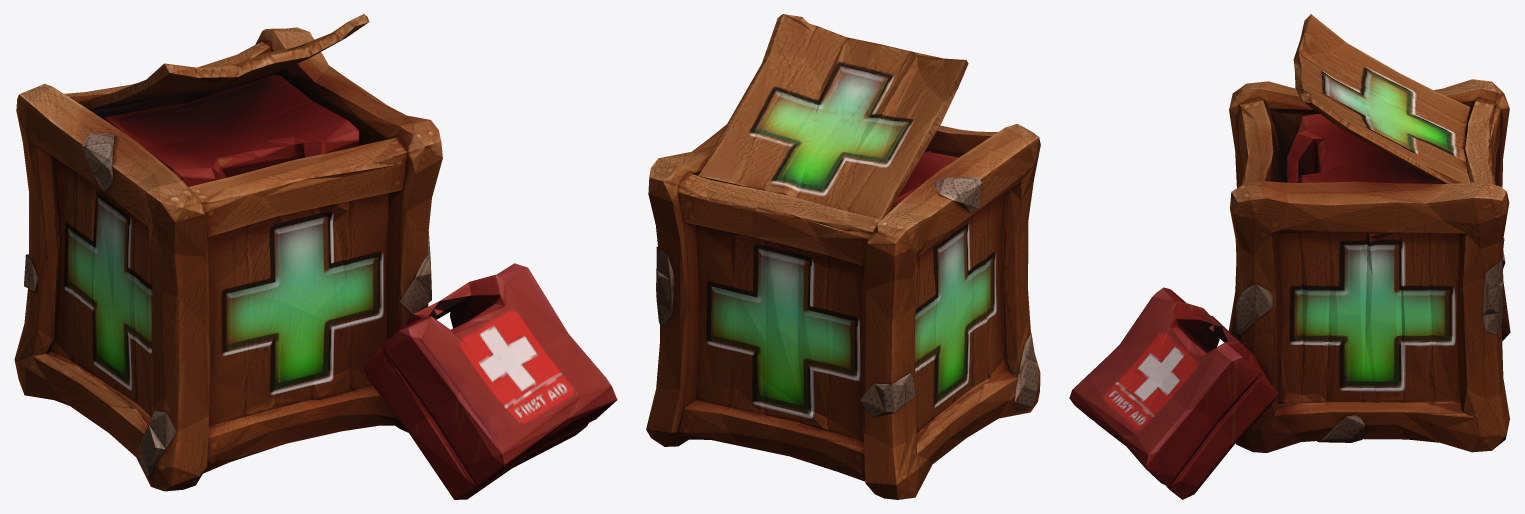
The model's file is HealthCrate.fbx.
3 views of the same model, side by side, from view 1: azimuth 30°, elevation 25°; view 2: azimuth 150°, elevation 25°; view 3: azimuth 270°, elevation 25° (orthographic). The views are drawn at different scales.
Visible parts, largest first — view 1: Health_Create_LOW:Group28370; view 2: Health_Create_LOW:Group28370; view 3: Health_Create_LOW:Group28370.
Part boxes in pixels (x1,y1,x2,y2): Health_Create_LOW:Group28370: (14,14,617,499); Health_Create_LOW:Group28370: (646,14,1040,499); Health_Create_LOW:Group28370: (1069,14,1510,499).
Bounding box in the file's own units: 3.08 × 2.92 × 3.38.
1 material, 1 textured.
